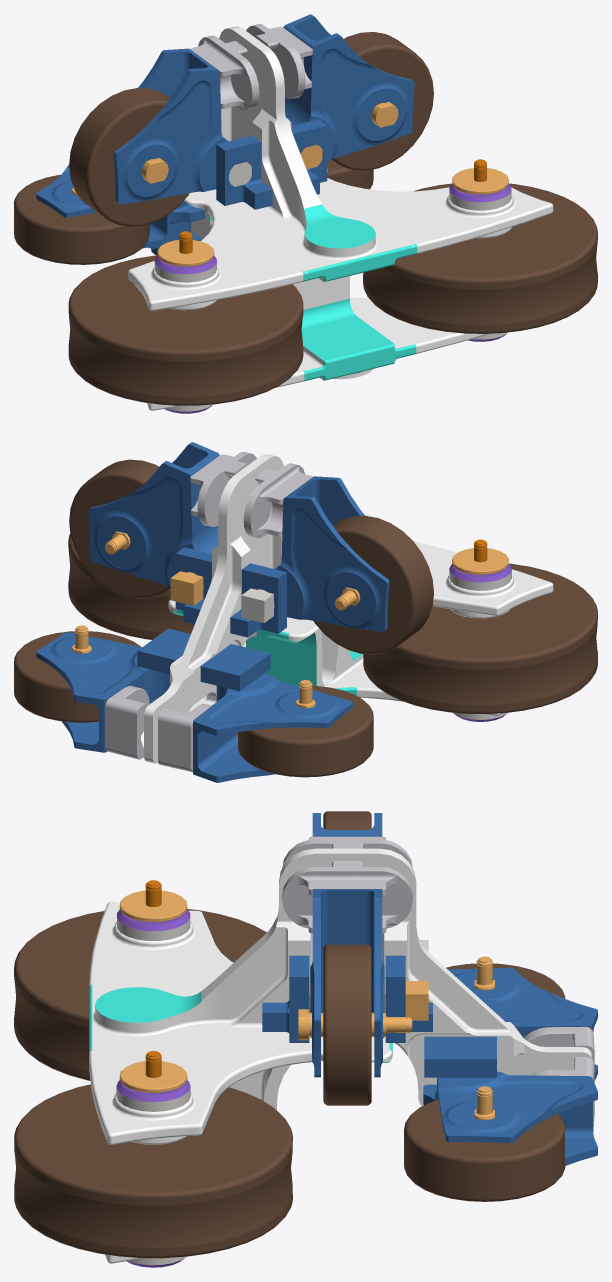
3 renders of one model, top to bottom at view 1: azimuth 30°, elevation 25°; view 2: azimuth 150°, elevation 25°; view 3: azimuth 270°, elevation 25°, orthographic. The views are drawn at different scales.
Parts seen in each view (by area): view 1: Volumenkörper3; view 2: Volumenkörper3; view 3: Volumenkörper3.
Boxes of the visible parts, x1,y1,x2,y2 form: Volumenkörper3: [14, 14, 597, 413]; Volumenkörper3: [14, 442, 597, 782]; Volumenkörper3: [14, 811, 597, 1267].
Bounding box in the file's own units: 845 × 437 × 723.
